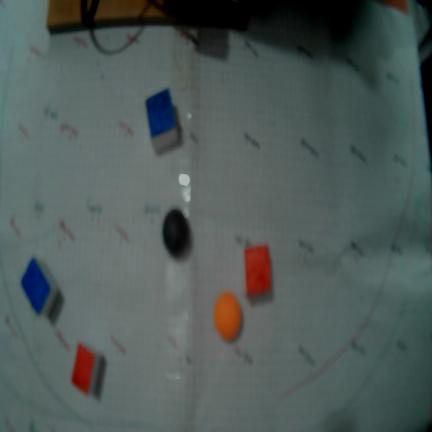circle_blue: (162, 209, 192, 258)
circle_orange: (214, 294, 241, 341)
rectangle_blue: (21, 262, 50, 316)
rectangle_orange: (72, 345, 95, 394)
square_blue: (146, 89, 176, 138)
square_orange: (245, 247, 271, 297)
